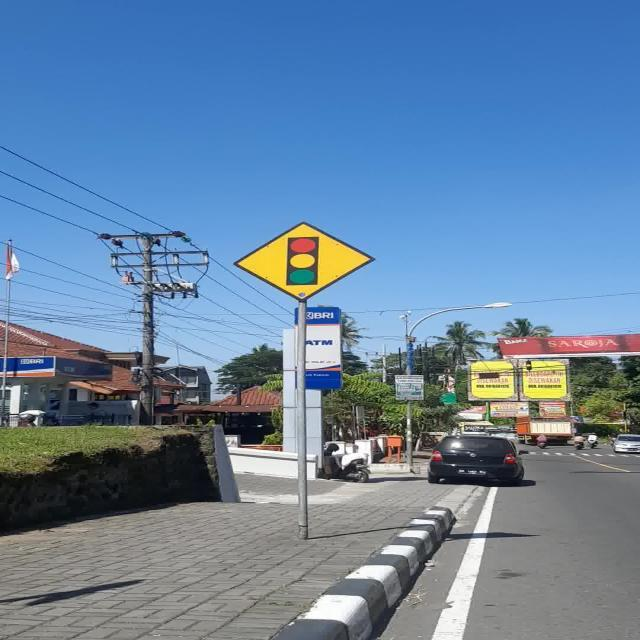Lampu Lalu Lintas: (232, 221, 376, 302)
